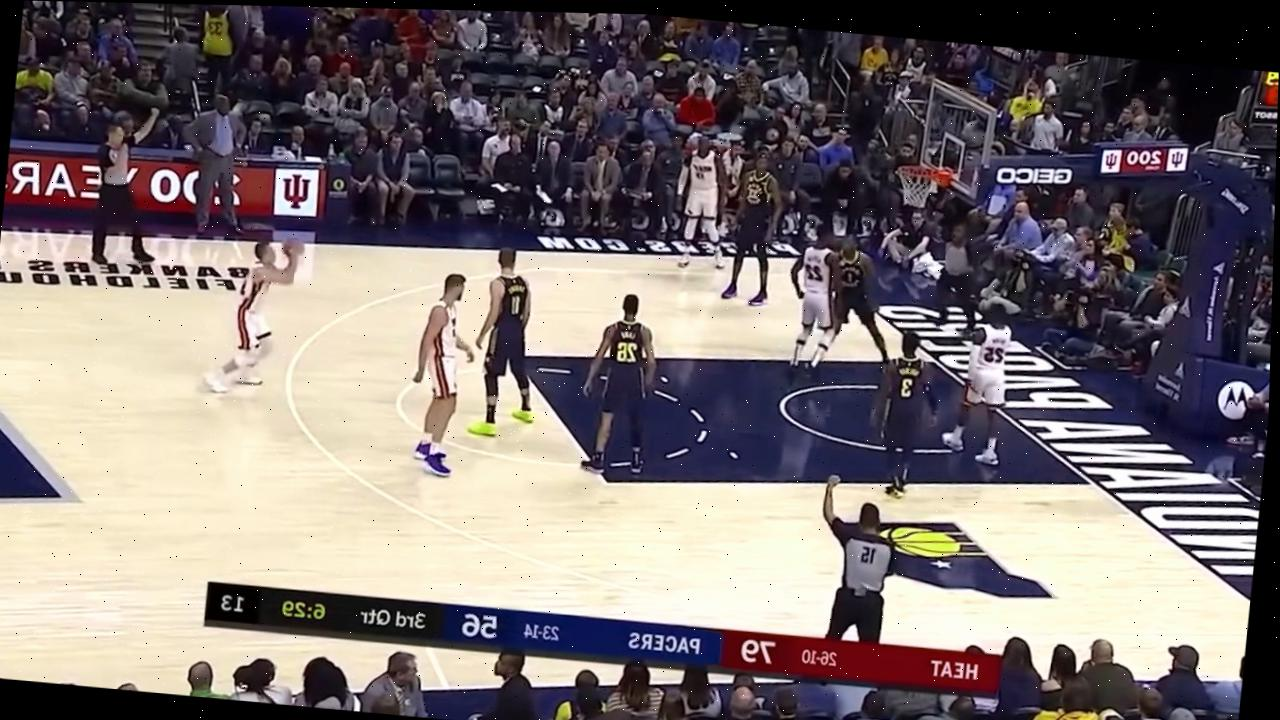no_foul: (768, 219, 896, 391)
